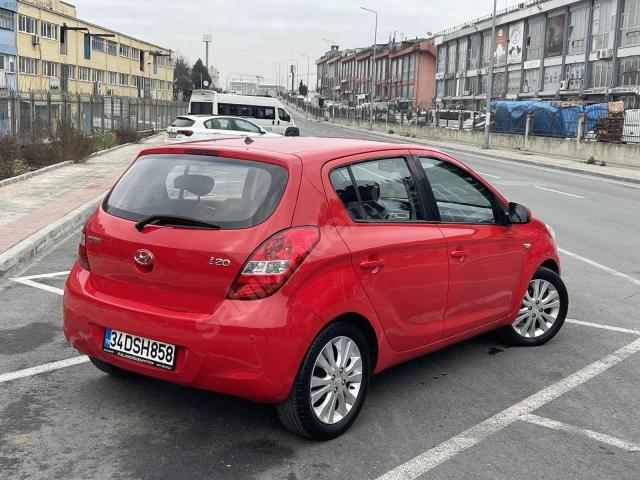plaka: (104, 329, 176, 370)
